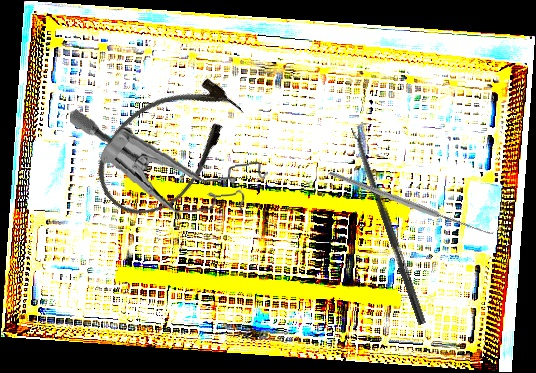Cannula: (77, 58, 259, 234)
Hook Surgical: (327, 111, 500, 291)
Speculum: (69, 94, 271, 226)
Surgical Spoon: (350, 125, 428, 326)
